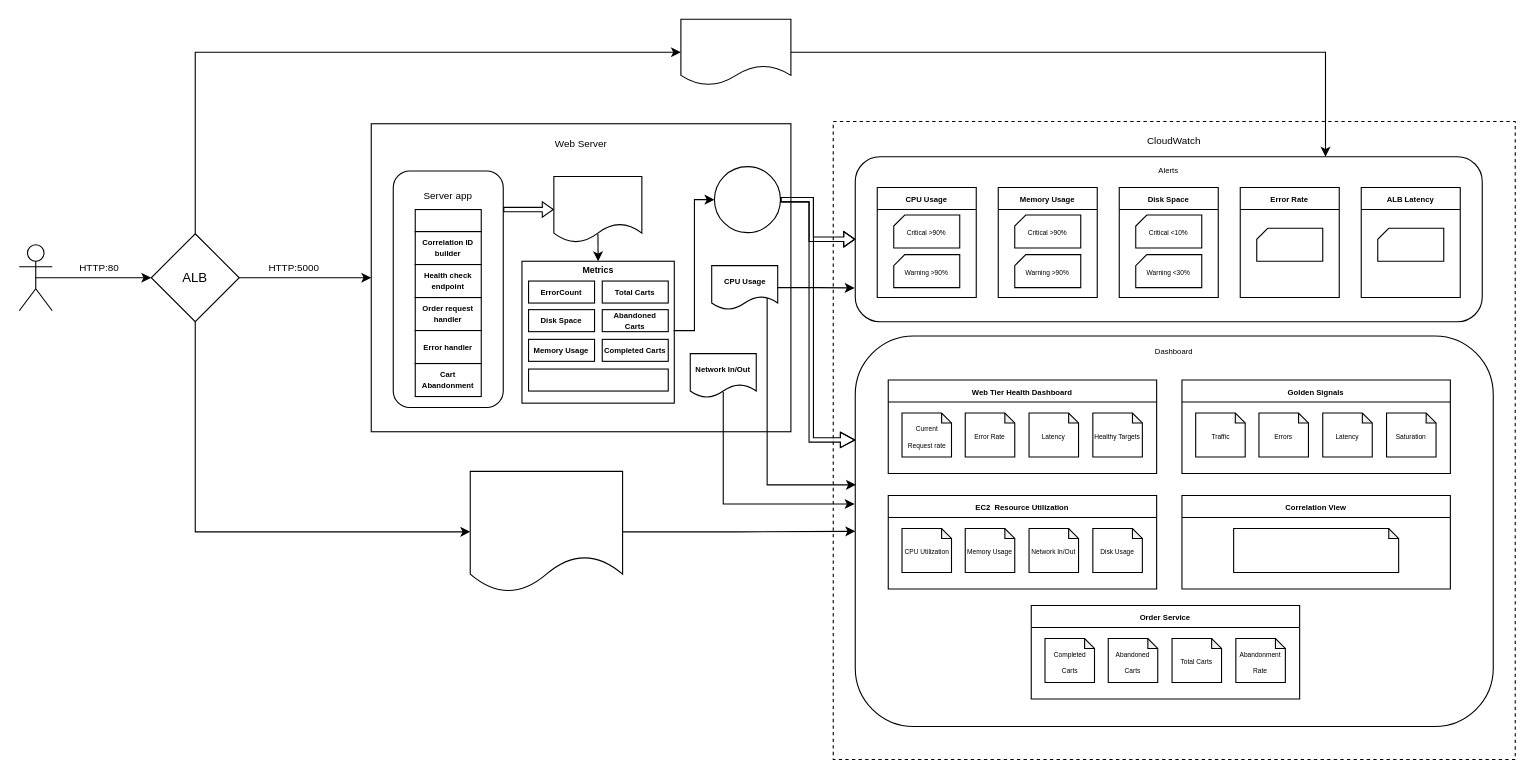
This 1535x779 diagram has some shape labels left out. Each missing label, with the centre of its shape:
ALB Response Time: point 735,51
Application Logs application.log: point 597,209
Cart Abandonment Rate: point 597,379
Cloud Watch Agent: point 746,199
Error Count > 10: point 1289,244
Latency vs Request Rate vs Error Rate vs CPU: point 1316,550
Logger Factory: point 447,220
Request Count HTTP Responses Target Response Time Healthy targets: point 546,531
Response Time > 500 ms: point 1410,244
User: point 35,277
